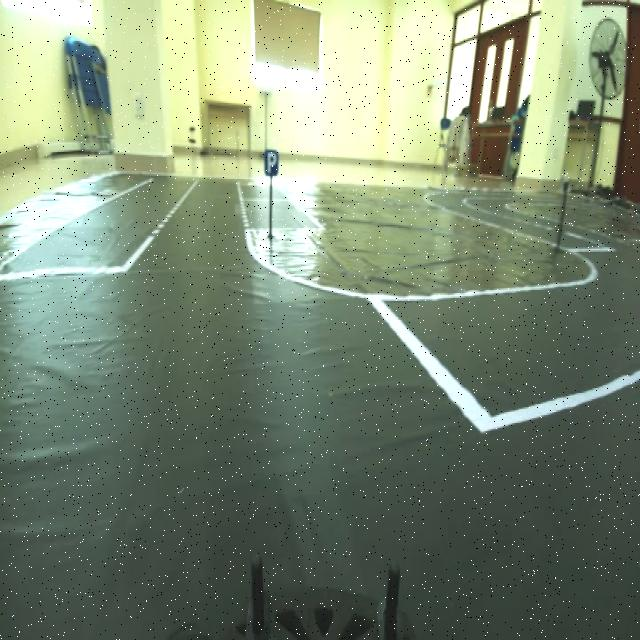parking: (254, 138, 288, 187)
